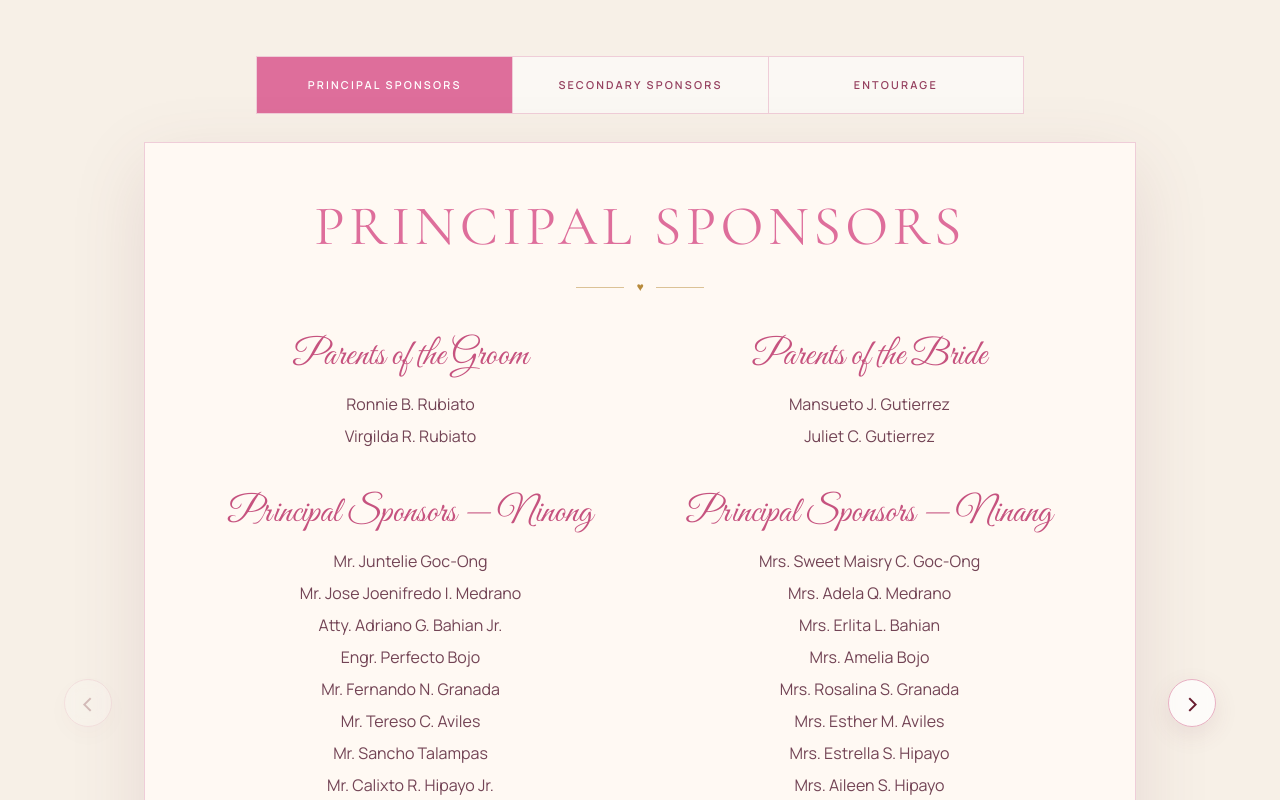
invitation presentation › organizes the entourage into explicit, guest-controlled categories
Expected: the list item "Ronnie B. Rubiato" is shown, [346,393,475,415]
Step 1. Click the tab "Secondary Sponsors" → (640, 85), box [512,57,768,113]
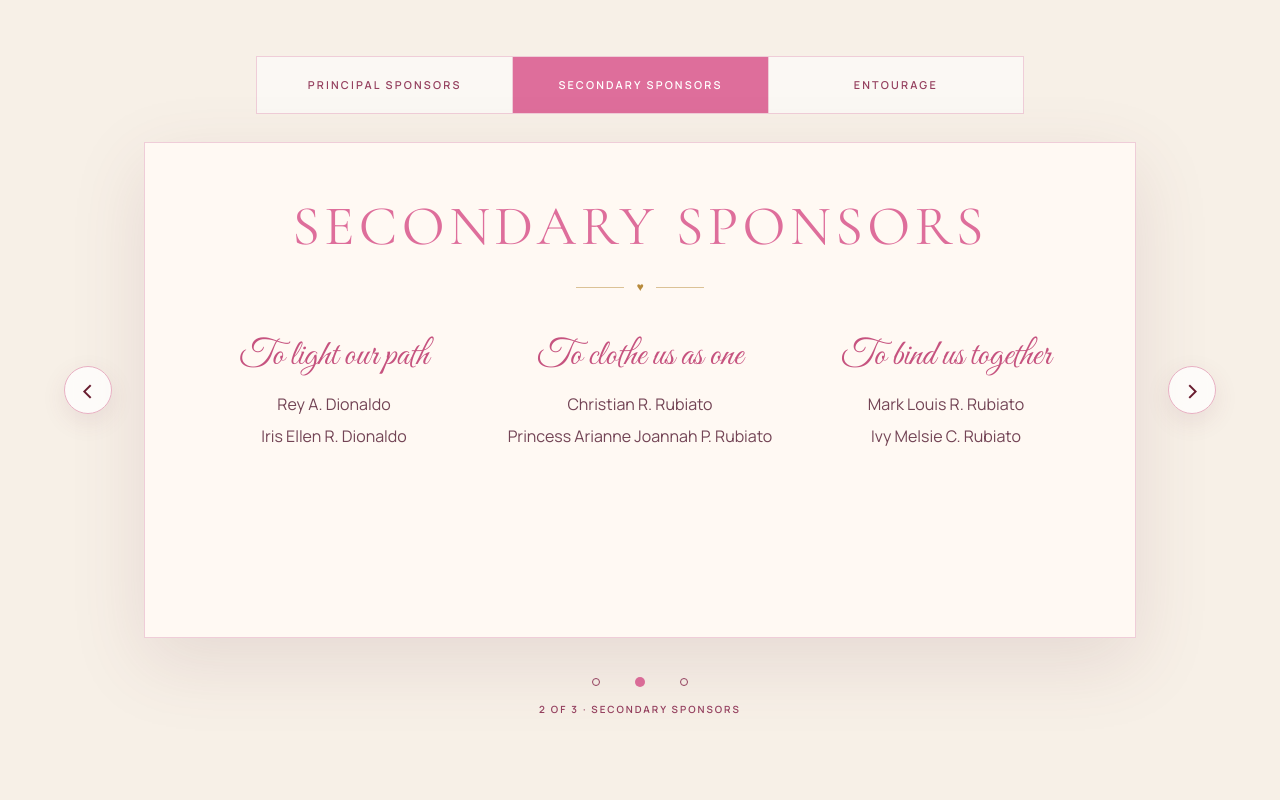
Now the heading "To light our path" is shown, box [239,333,429,378]
Now the heading "To clothe us as one" is shown, box [537,333,743,378]
Now the heading "To bind us together" is shown, box [841,333,1051,378]
